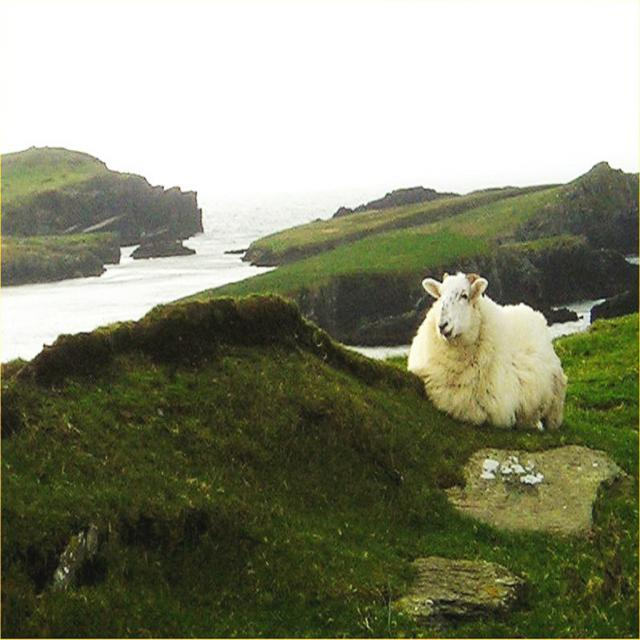Sheep: (405, 268, 566, 433)
